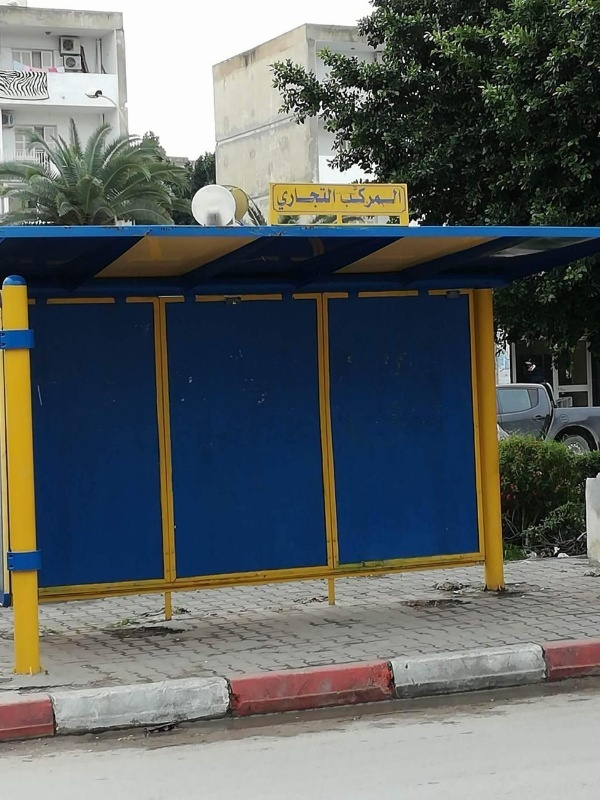text: (289, 186, 304, 211), (305, 186, 320, 211), (321, 186, 336, 211), (353, 185, 368, 209), (369, 185, 384, 209), (385, 185, 400, 209), (340, 185, 352, 209), (278, 186, 288, 211), (401, 185, 402, 209)
